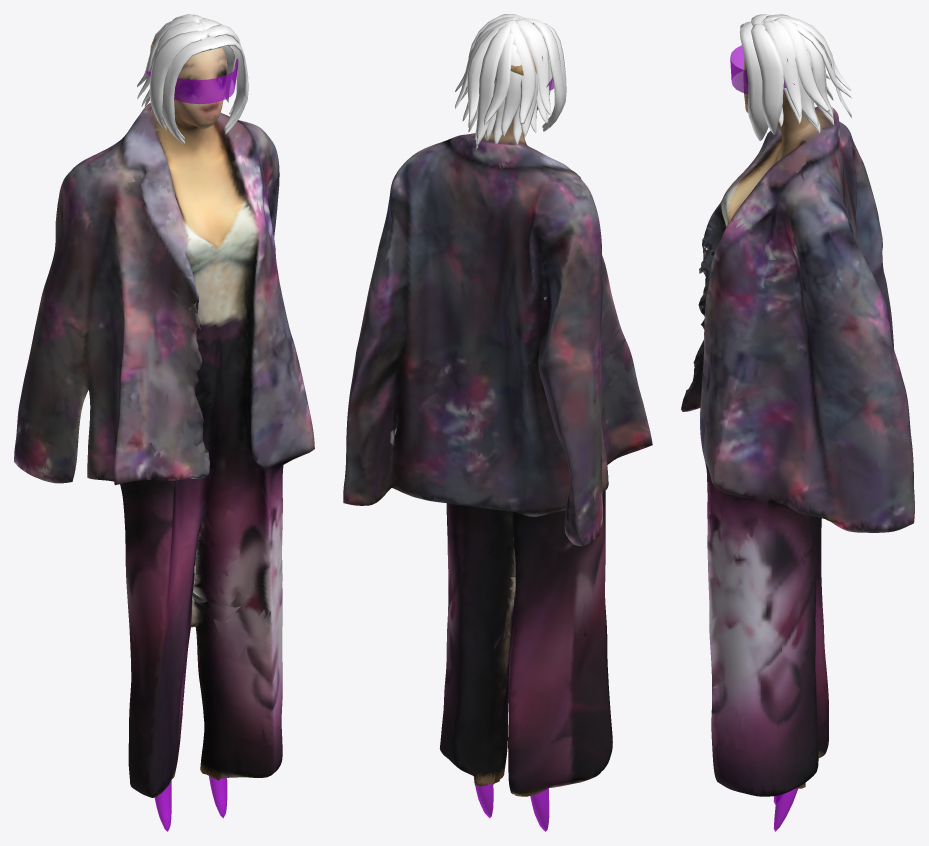
3 renders of one model, left to right at view 1: azimuth 30°, elevation 25°; view 2: azimuth 150°, elevation 25°; view 3: azimuth 270°, elevation 25°, orthographic.
Parts seen in each view (by area): view 1: TexturedMesh_TextureAtlas_1001_0, Front_parts13_253_01 - Default_0, Box003, Box002; view 2: TexturedMesh_TextureAtlas_1001_0, Front_parts13_253_01 - Default_0, Box002; view 3: TexturedMesh_TextureAtlas_1001_0, Front_parts13_253_01 - Default_0, Box003, Box002.
Part boxes in pixels (x1,y1,x2,y2): TexturedMesh_TextureAtlas_1001_0: (14,37,314,797); Front_parts13_253_01 - Default_0: (137,14,248,144); Box003: (146,58,238,104); Box002: (154,776,227,831); TexturedMesh_TextureAtlas_1001_0: (343,50,652,796); Front_parts13_253_01 - Default_0: (454,14,566,148); Box002: (473,776,549,831); TexturedMesh_TextureAtlas_1001_0: (681,41,914,796); Front_parts13_253_01 - Default_0: (739,14,851,140); Box003: (730,45,794,93); Box002: (773,787,797,831).
Bounding box in the file's own units: 0.5202 × 1.7 × 0.4492.
Materials: 3 (1 with a texture image).
